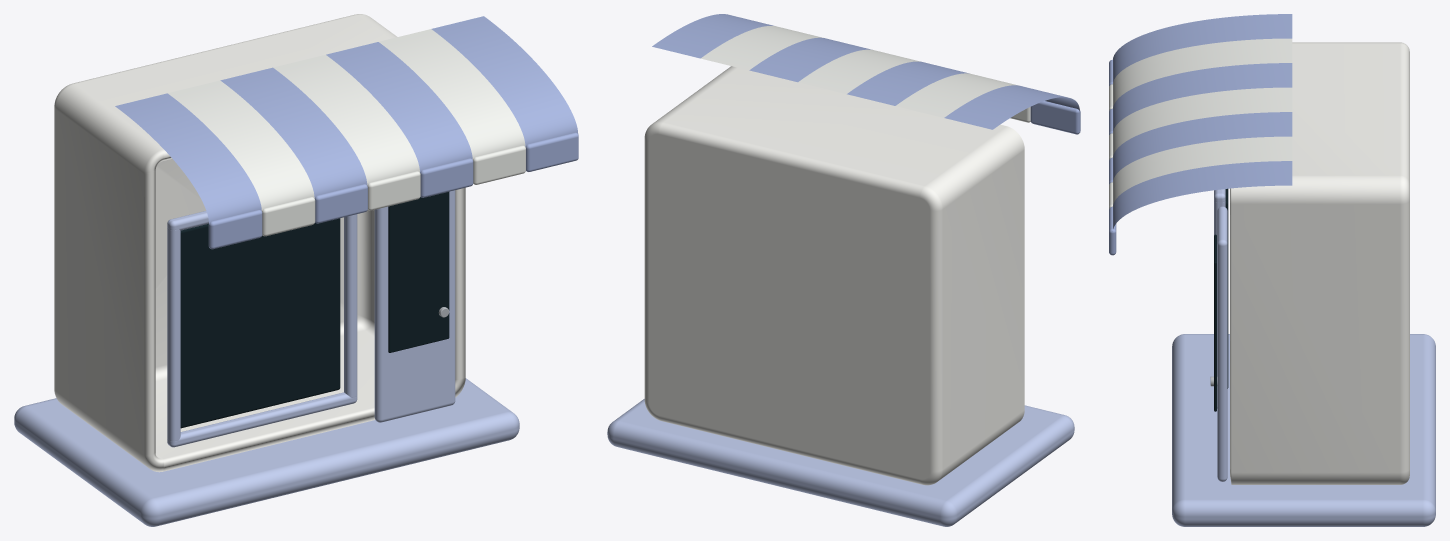
The model's file is store-awning.glb.
3 views of the same model, side by side, from view 1: azimuth 30°, elevation 25°; view 2: azimuth 150°, elevation 25°; view 3: azimuth 270°, elevation 25° (orthographic). The views are drawn at different scales.
Visible parts, largest first — view 1: hollow-rounded-housing, curved-awning-panel (×7), shopfront-glazing-003, store-foundation-001, hinged-shop-door-009, hinged-shop-door-008, shopfront-glazing-004, shopfront-glazing-006, shopfront-glazing-005, striped-curved-awning-012, striped-curved-awning-020, striped-curved-awning-014 (+4 smaller); view 2: hollow-rounded-housing, store-foundation-001, curved-awning-panel (×7), striped-curved-awning-012; view 3: hollow-rounded-housing, curved-awning-panel (×7), store-foundation-001, hinged-shop-door-008, hinged-shop-door-009, shopfront-glazing-003.
Part boxes in pixels (x1,y1,x2,y2): hollow-rounded-housing: [54, 14, 465, 472]; curved-awning-panel (×7): [115, 16, 578, 224]; shopfront-glazing-003: [180, 218, 340, 428]; store-foundation-001: [14, 378, 519, 526]; hinged-shop-door-009: [388, 192, 449, 352]; hinged-shop-door-008: [374, 190, 455, 422]; shopfront-glazing-004: [167, 228, 180, 441]; shopfront-glazing-006: [167, 392, 357, 447]; shopfront-glazing-005: [344, 214, 357, 397]; striped-curved-awning-012: [208, 210, 262, 249]; striped-curved-awning-020: [420, 158, 473, 197]; striped-curved-awning-014: [262, 197, 315, 236]; hollow-rounded-housing: [644, 66, 1024, 485]; store-foundation-001: [607, 399, 1074, 526]; curved-awning-panel (×7): [652, 14, 1079, 129]; striped-curved-awning-012: [1030, 101, 1080, 134]; hollow-rounded-housing: [1230, 42, 1409, 484]; curved-awning-panel (×7): [1113, 14, 1292, 228]; store-foundation-001: [1172, 334, 1435, 526]; hinged-shop-door-008: [1217, 206, 1227, 481]; hinged-shop-door-009: [1214, 234, 1216, 411]; shopfront-glazing-003: [1225, 188, 1228, 388].
Bounding box in the file's own units: 2 × 1.79 × 1.49.
